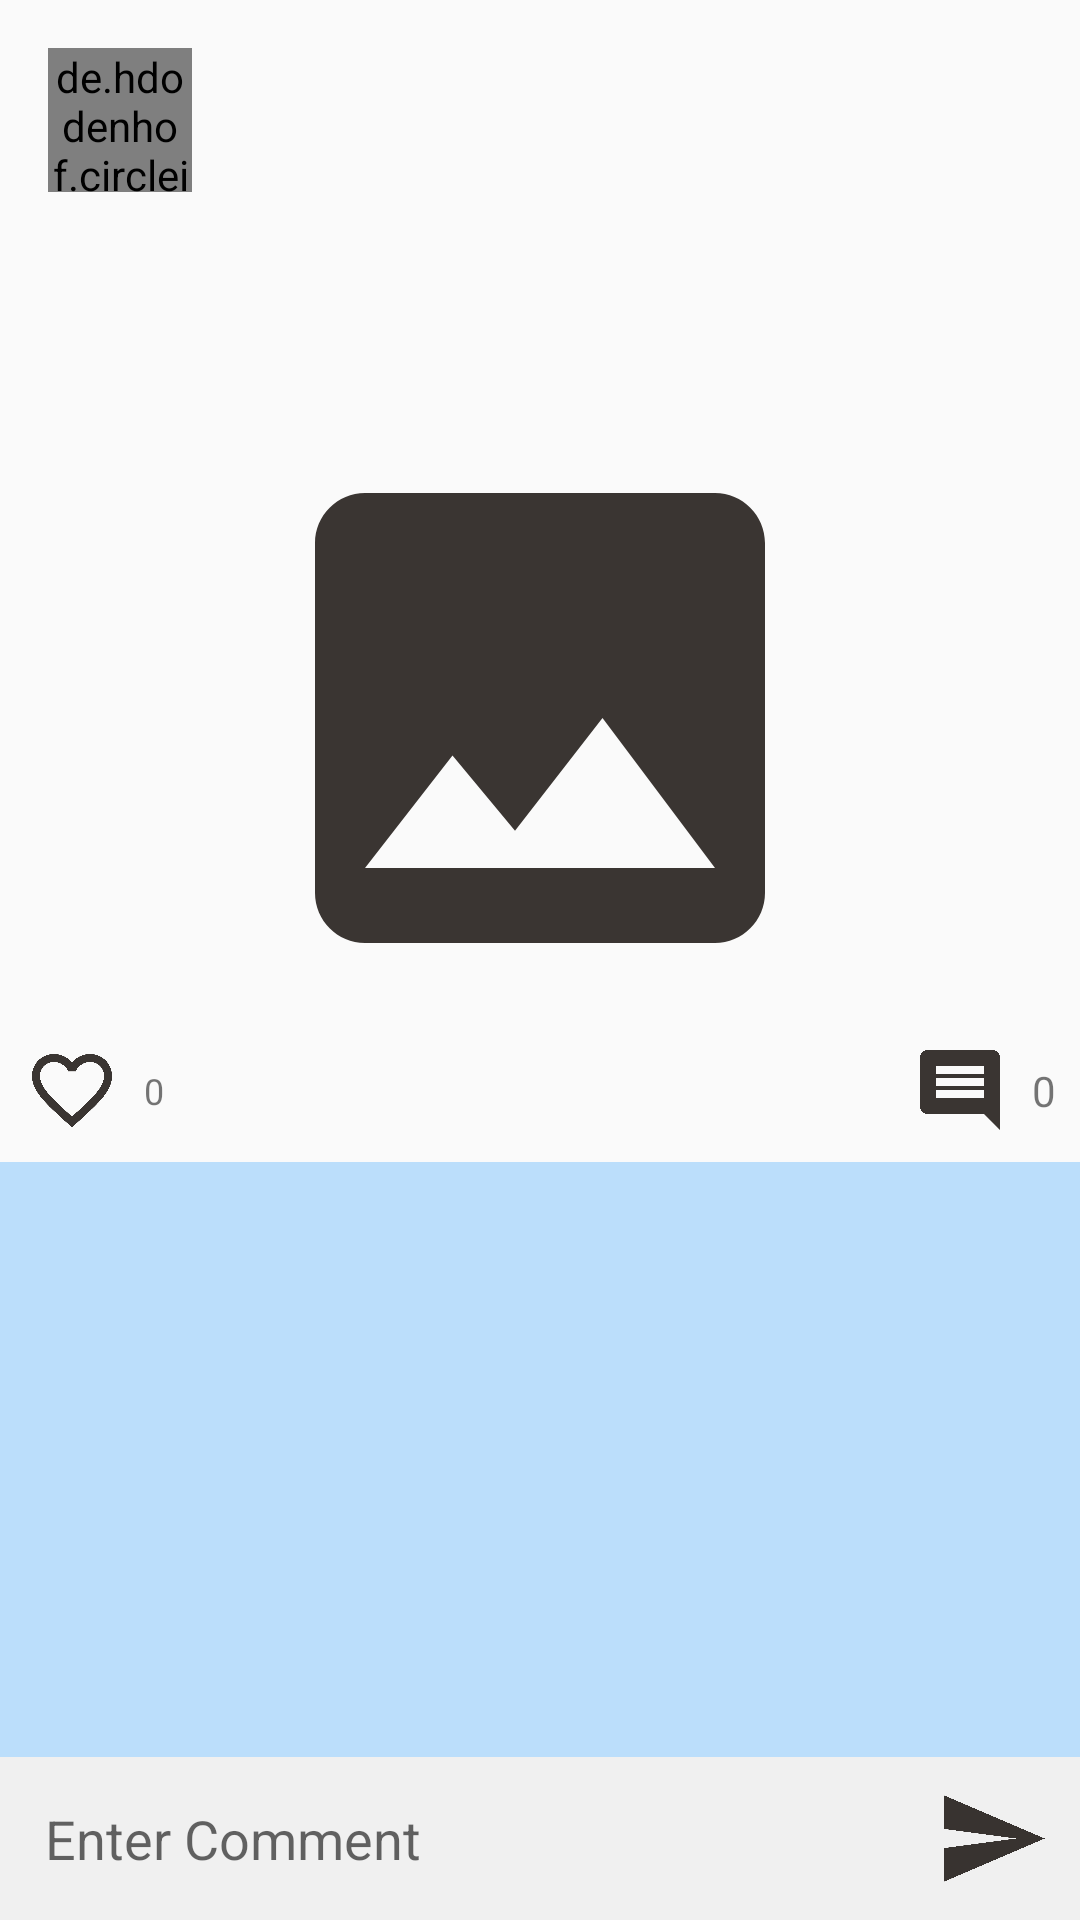

Locate icon controls on the screen. Image size 1080px×1920px, boxes as (x1, y1, x2, y2).
comment: (920, 1050, 1000, 1130)
heart: (32, 1054, 112, 1127)
send: (944, 1795, 1045, 1882)
